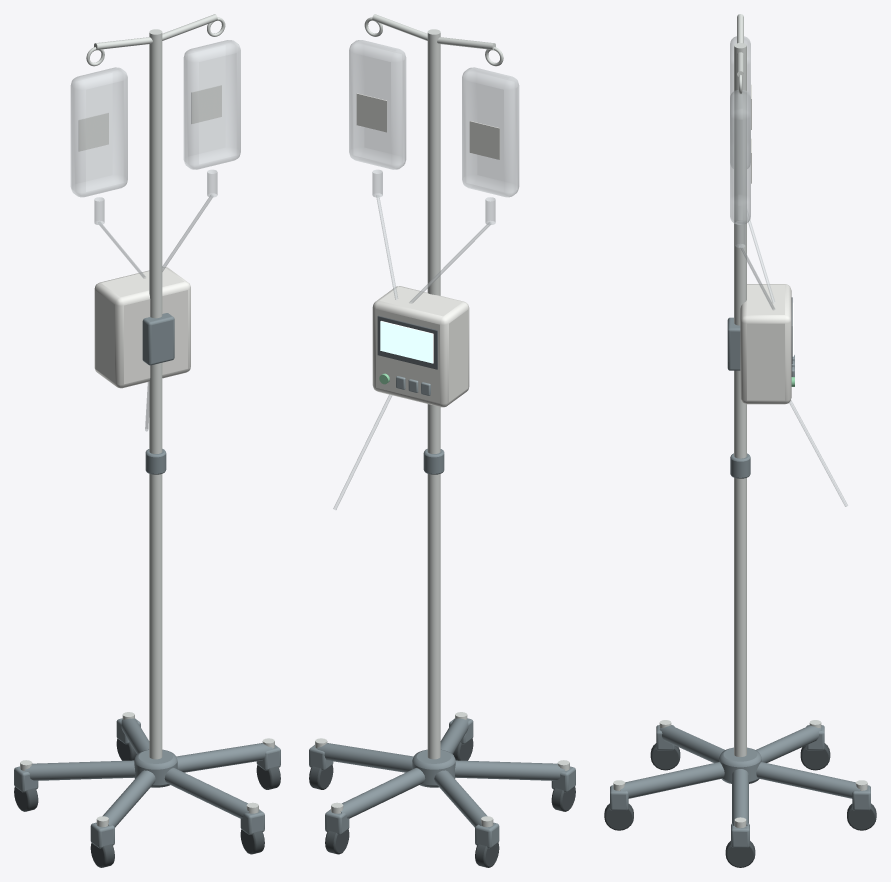
The model's file is iv_drip_stand.glb.
3 views of the same model, side by side, from view 1: azimuth 30°, elevation 25°; view 2: azimuth 150°, elevation 25°; view 3: azimuth 270°, elevation 25° (orthographic). The views are drawn at different scales.
Parts seen in each view (by area): view 1: base_dark_alloy, pole_satin_steel, pump_white_painted, iv_bag_l_iv_clear, iv_bag_r_iv_clear, pump_clamp_dark_alloy, hooks_satin_steel, iv_bag_label_r_white_painted, iv_bag_label_l_white_painted, iv_lines_iv_clear; view 2: base_dark_alloy, pole_satin_steel, pump_white_painted, iv_bag_r_iv_clear, iv_bag_l_iv_clear, pump_screen_screen_cyan, iv_lines_iv_clear, hooks_satin_steel, iv_bag_label_r_white_painted, iv_bag_label_l_white_painted, pump_bezel_graphite; view 3: base_dark_alloy, pole_satin_steel, pump_white_painted, iv_bag_r_iv_clear, iv_bag_l_iv_clear, iv_lines_iv_clear, pump_clamp_dark_alloy.
Boxes of the visible parts, x1,y1,x2,y2 form: base_dark_alloy: [14, 712, 280, 867]; pole_satin_steel: [149, 29, 162, 759]; pump_white_painted: [94, 267, 190, 388]; iv_bag_l_iv_clear: [70, 67, 127, 197]; iv_bag_r_iv_clear: [183, 40, 240, 169]; pump_clamp_dark_alloy: [142, 313, 174, 365]; hooks_satin_steel: [86, 14, 225, 66]; iv_bag_label_r_white_painted: [191, 85, 221, 123]; iv_bag_label_l_white_painted: [79, 113, 108, 151]; iv_lines_iv_clear: [98, 194, 212, 431]; base_dark_alloy: [309, 712, 575, 867]; pole_satin_steel: [427, 29, 440, 759]; pump_white_painted: [372, 286, 469, 407]; iv_bag_r_iv_clear: [349, 40, 406, 169]; iv_bag_l_iv_clear: [462, 67, 519, 197]; pump_screen_screen_cyan: [380, 321, 433, 363]; iv_lines_iv_clear: [333, 195, 491, 509]; hooks_satin_steel: [364, 14, 503, 66]; iv_bag_label_r_white_painted: [356, 93, 387, 132]; iv_bag_label_l_white_painted: [469, 121, 500, 159]; pump_bezel_graphite: [377, 315, 437, 369]; base_dark_alloy: [604, 720, 876, 867]; pole_satin_steel: [734, 43, 746, 756]; pump_white_painted: [740, 284, 791, 404]; iv_bag_r_iv_clear: [730, 90, 750, 224]; iv_bag_l_iv_clear: [730, 36, 750, 168]; iv_lines_iv_clear: [739, 210, 847, 506]; pump_clamp_dark_alloy: [727, 317, 740, 370].
Size of the model in its own units: 0.5867 by 2 by 0.6406.
